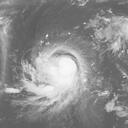cyclone: (24, 45, 88, 103)
